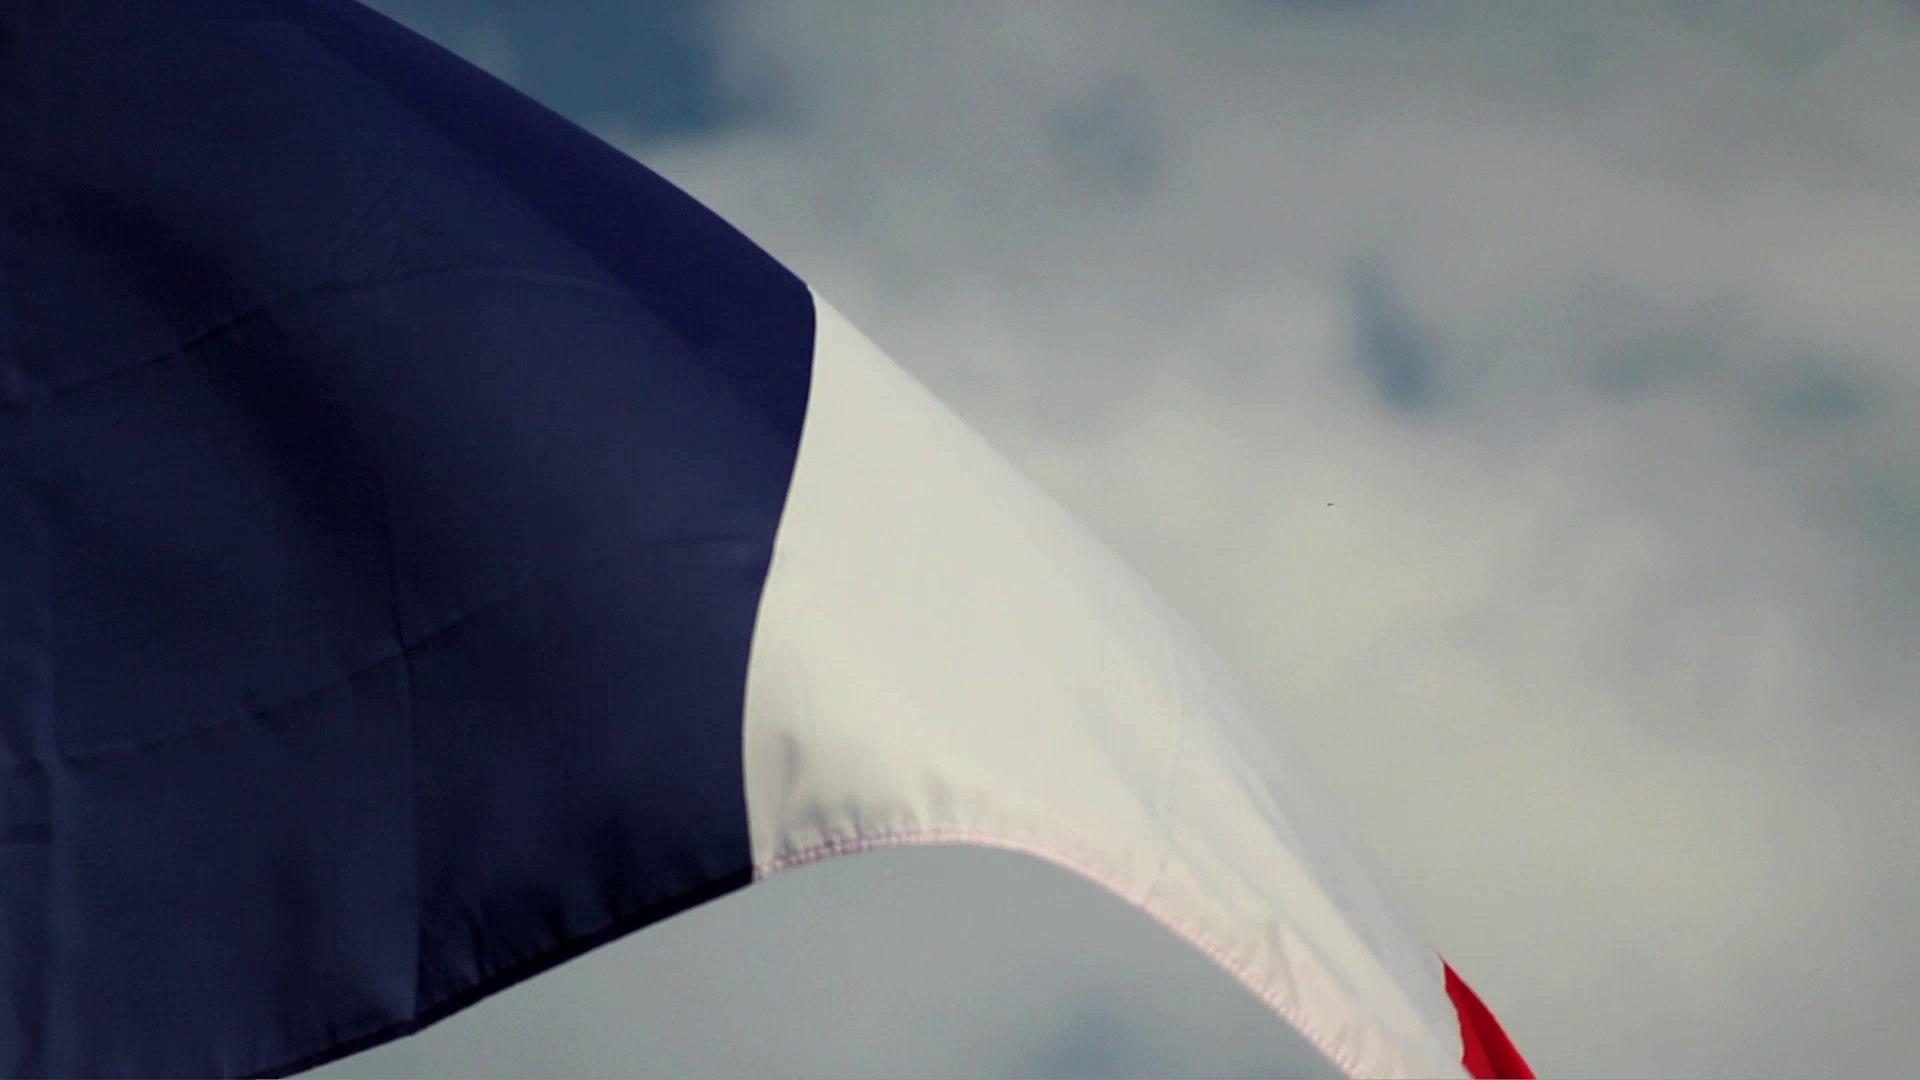French Flag: (1, 1, 1556, 1080)
